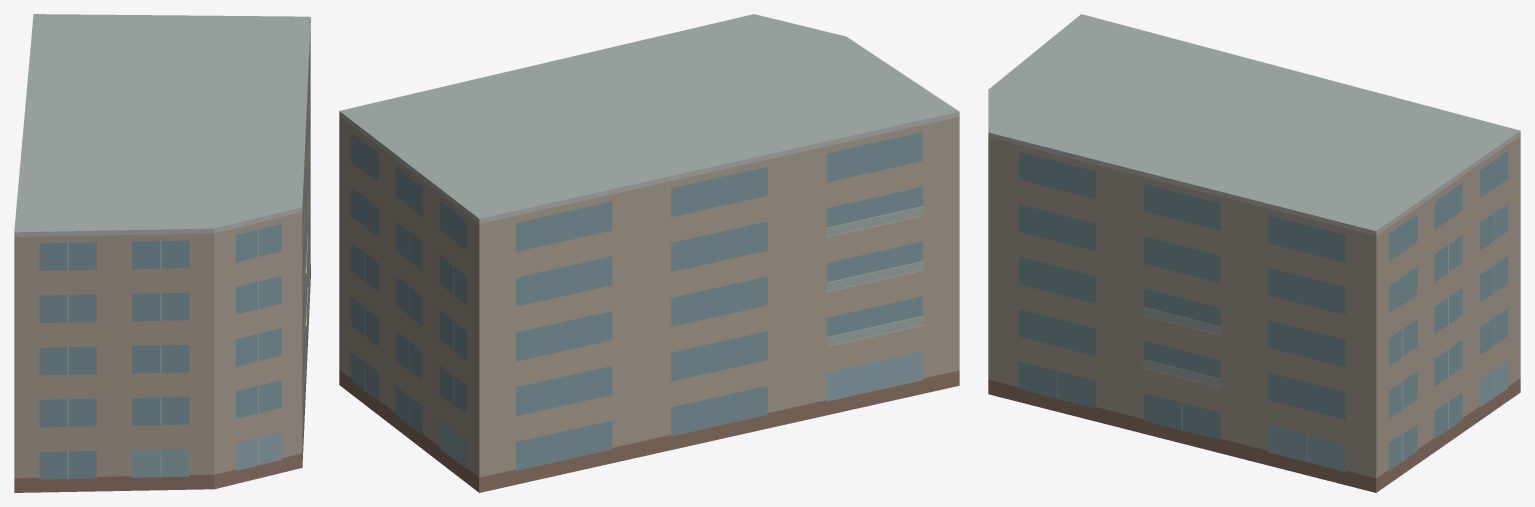
Rendered from survey-upis-32658169.glb.
3 views of the same model, side by side, from view 1: azimuth 30°, elevation 25°; view 2: azimuth 150°, elevation 25°; view 3: azimuth 270°, elevation 25° (orthographic). The views are drawn at different scales.
Visible parts, largest first — view 1: survey-upis-32658169.tmp; view 2: survey-upis-32658169.tmp; view 3: survey-upis-32658169.tmp.
Boxes of the visible parts, left/top/right/bottom form: survey-upis-32658169.tmp: left=14, top=14, right=310, bottom=492; survey-upis-32658169.tmp: left=339, top=14, right=959, bottom=492; survey-upis-32658169.tmp: left=988, top=14, right=1520, bottom=492.
Size of the model in its own units: 23.51 by 13.2 by 24.35.
